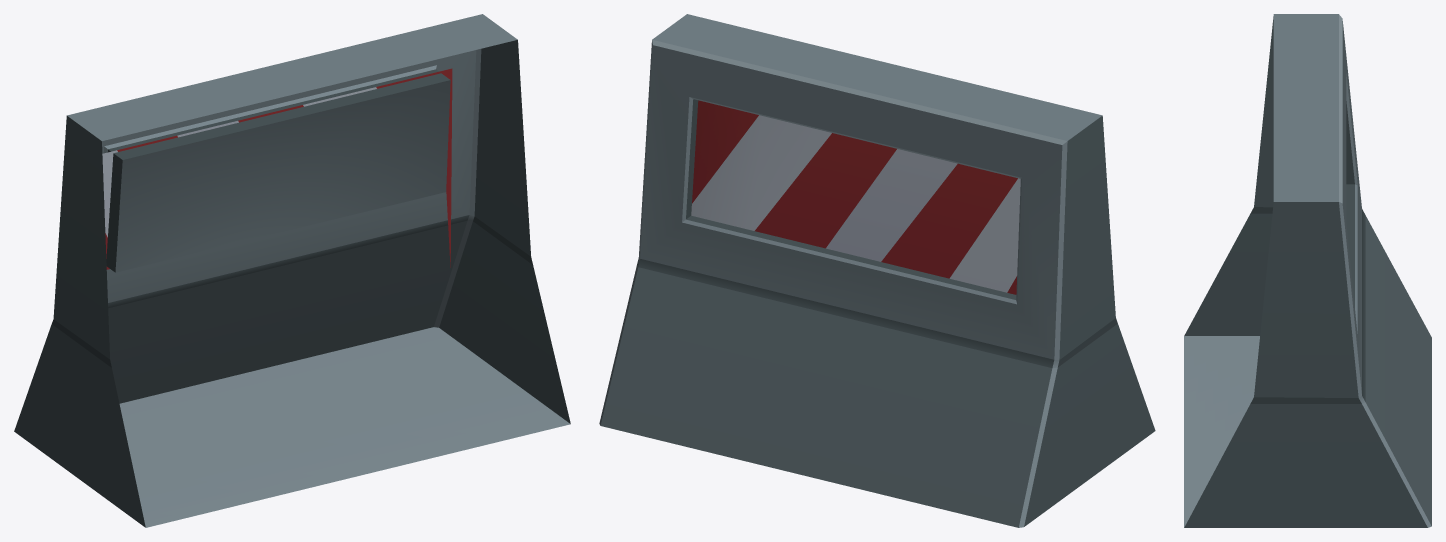
The model's file is barrier_3.fbx.
3 views of the same model, side by side, from view 1: azimuth 30°, elevation 25°; view 2: azimuth 150°, elevation 25°; view 3: azimuth 270°, elevation 25° (orthographic). The views are drawn at different scales.
Parts seen in each view (by area): view 1: bar_3; view 2: bar_3; view 3: bar_3.
Boxes of the visible parts, x1,y1,x2,y2 form: bar_3: (14,14,570,527); bar_3: (599,14,1155,527); bar_3: (1184,14,1431,527).
Size of the model in its own units: 76.23 by 60.01 by 41.57.
